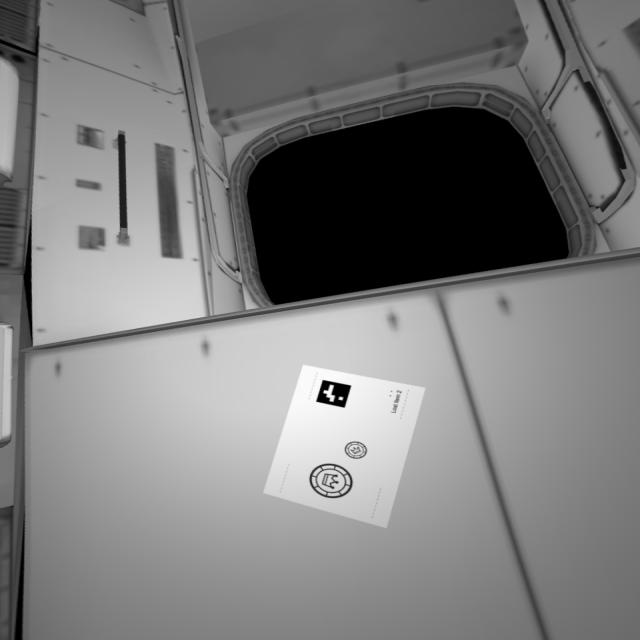coin: (309, 458, 355, 506), (342, 439, 373, 465)
